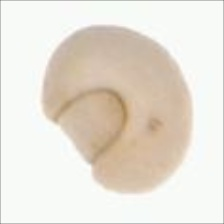L5: (51, 87, 130, 166), (160, 44, 192, 92)
L6: (37, 22, 201, 196)
